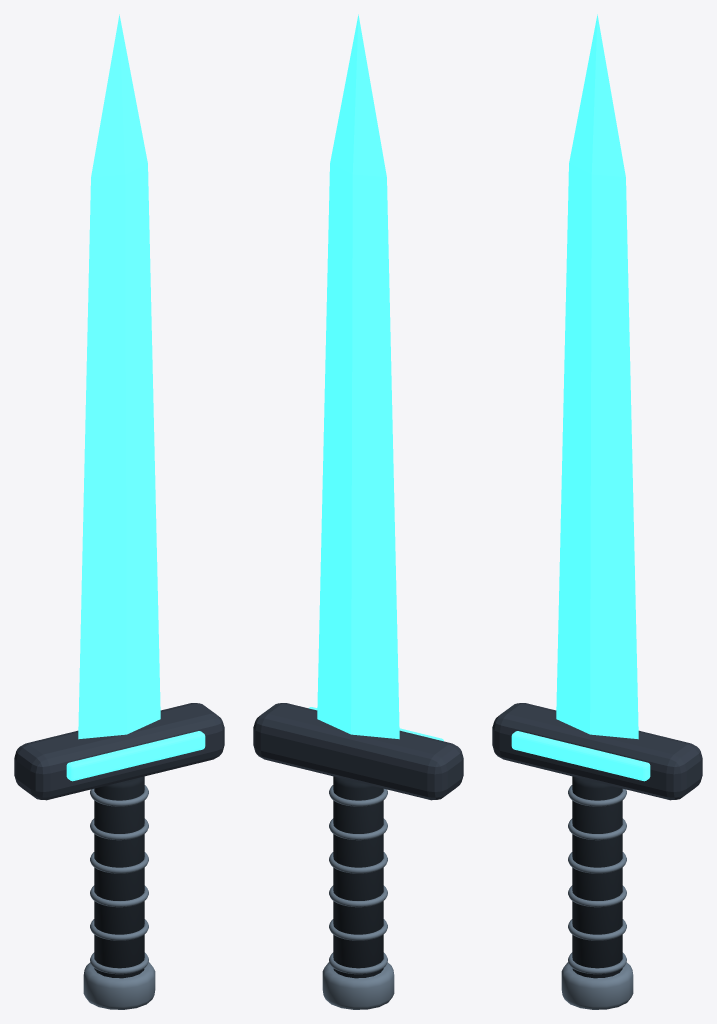
The model's file is EnergyBlade.fbx.
3 renders of one model, left to right at view 1: azimuth 30°, elevation 25°; view 2: azimuth 150°, elevation 25°; view 3: azimuth 330°, elevation 25°, orthographic.
Visible parts, largest first — view 1: EnergyBladeEdge, EmitterGuard, Grip, GuardLight, Pommel; view 2: EnergyBladeEdge, EmitterGuard, Grip, Pommel; view 3: EnergyBladeEdge, EmitterGuard, Grip, GuardLight, Pommel.
Boxes of the visible parts, box(x1,y1,x2,y2) form: EnergyBladeEdge: box(78, 14, 160, 739); EmitterGuard: box(14, 703, 224, 800); Grip: box(94, 776, 144, 978); GuardLight: box(66, 731, 205, 781); Pommel: box(83, 962, 155, 1009); EnergyBladeEdge: box(317, 14, 399, 739); EmitterGuard: box(253, 703, 463, 800); Grip: box(333, 776, 383, 978); Pommel: box(322, 962, 394, 1009); EnergyBladeEdge: box(556, 14, 638, 739); EmitterGuard: box(492, 703, 702, 800); Grip: box(572, 776, 622, 978); GuardLight: box(511, 731, 650, 781); Pommel: box(561, 962, 633, 1009).
Bounding box in the file's own units: 0.27 × 1.32 × 0.091.
